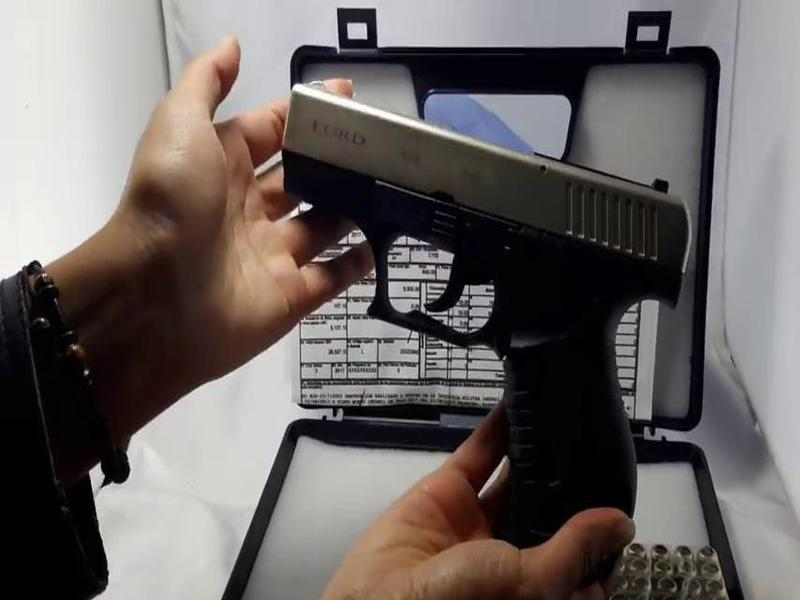Pistola: (238, 70, 707, 576)
